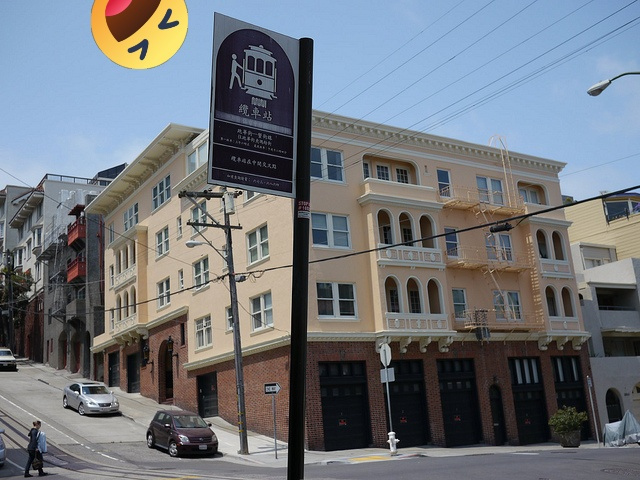haha: (91, 0, 188, 69)
